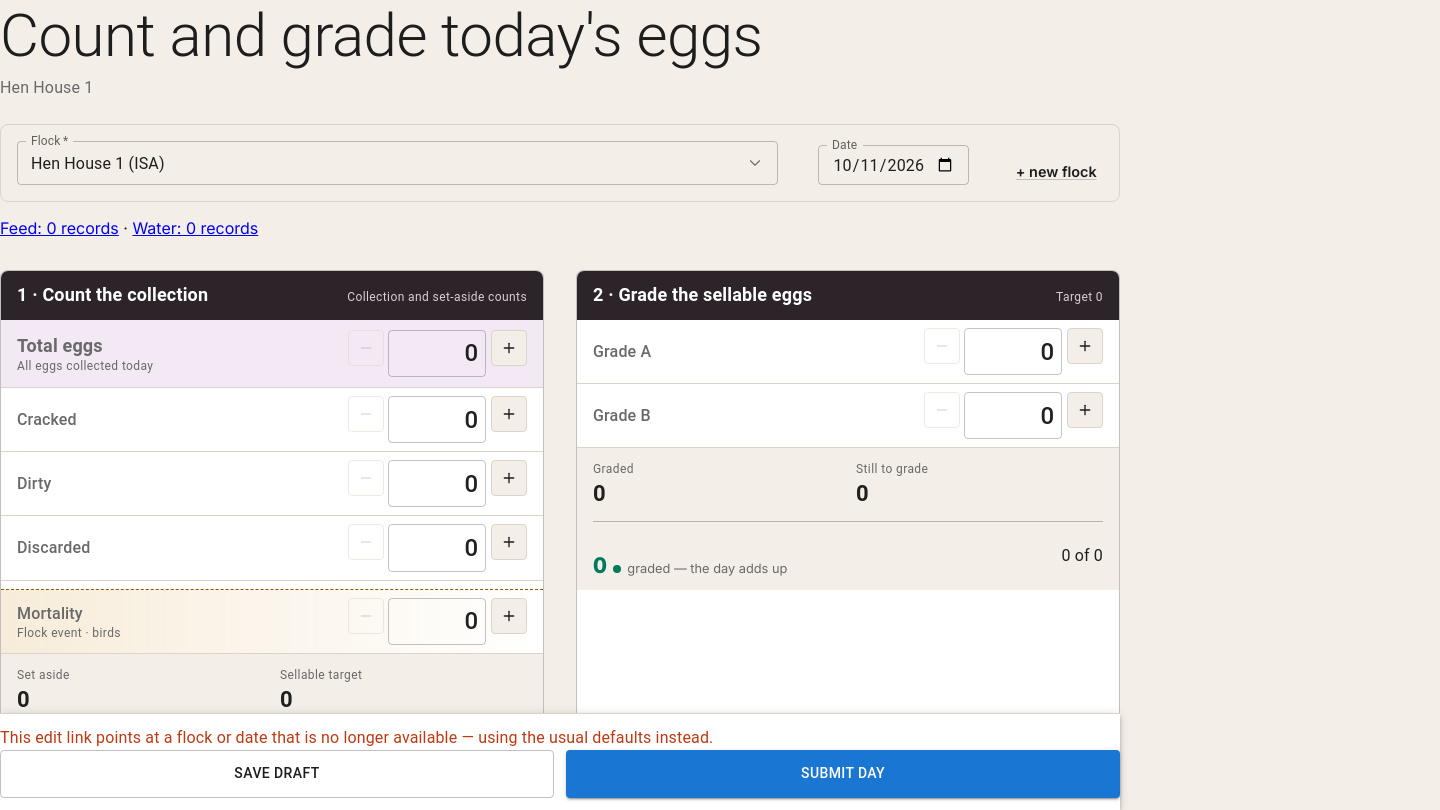
Test case: DailyEntryPage error placement (#479) › keeps a page failure while the new-flock dialog opens and its own create fails
Expected: the number field labelled "Grade A" is shown, [964,328,1062,375]
Expected: the button "Save draft" is enabled, [0,750,554,798]
Click the button "+ new flock" at (1056, 172), box [1009,158,1103,185]
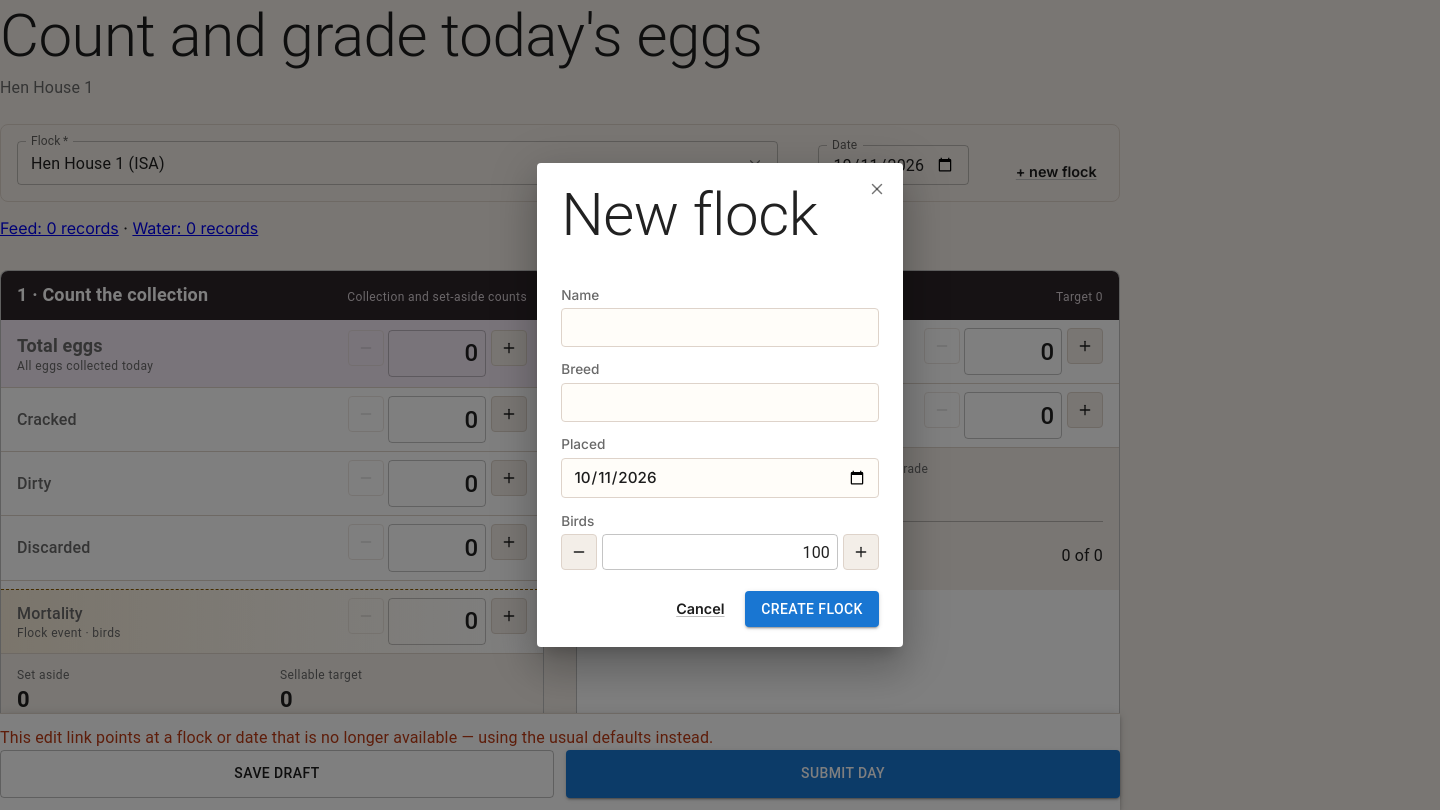
Expected: the text "This edit link points at a flock or date that is no longer available — using the usual defaults instead." is shown, [0,728,713,747]
Type "Dupe" into the field labelled "Name" at (720, 328), box [561,308,879,347]
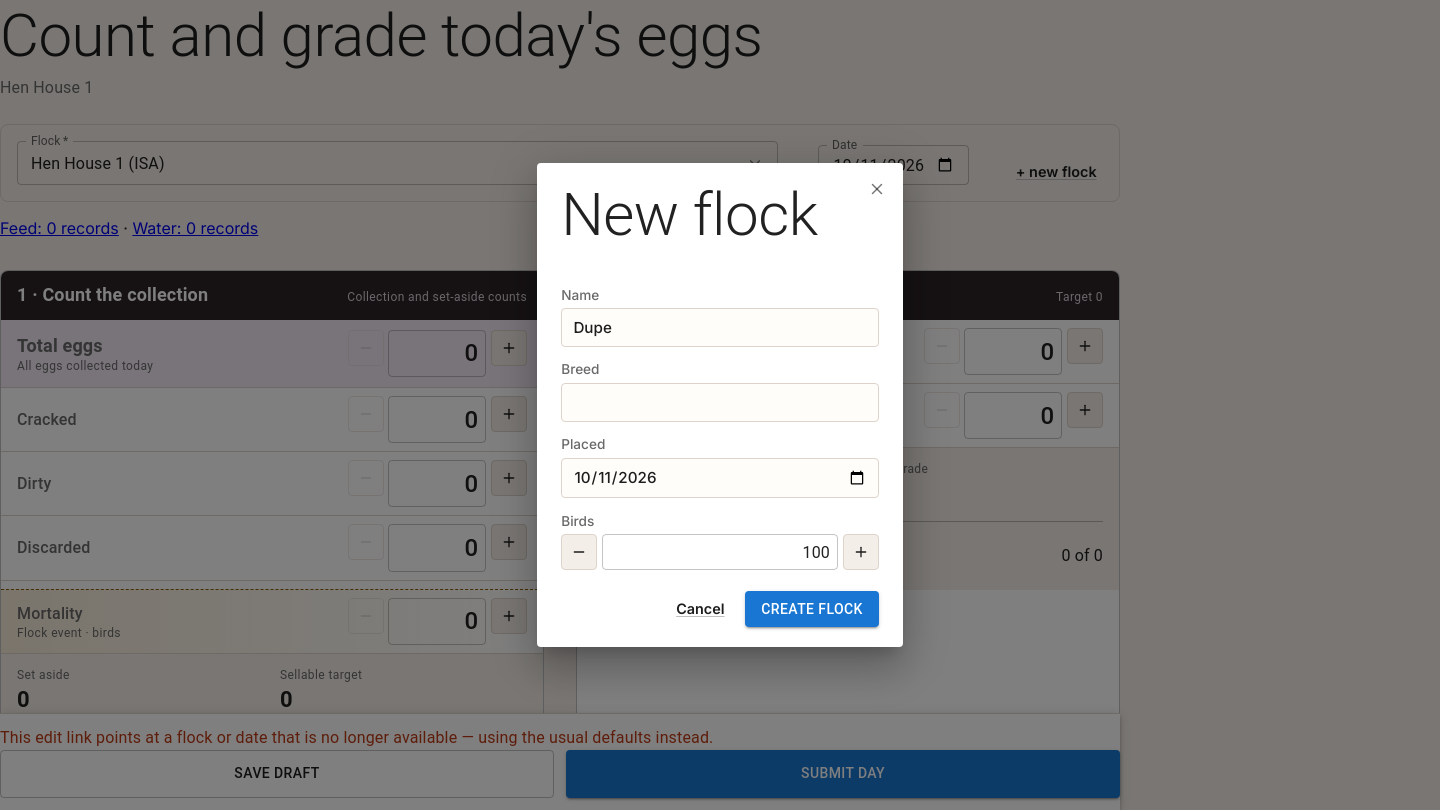
Type "ISA" into the field labelled "Breed" at (720, 402), box [561,383,879,422]
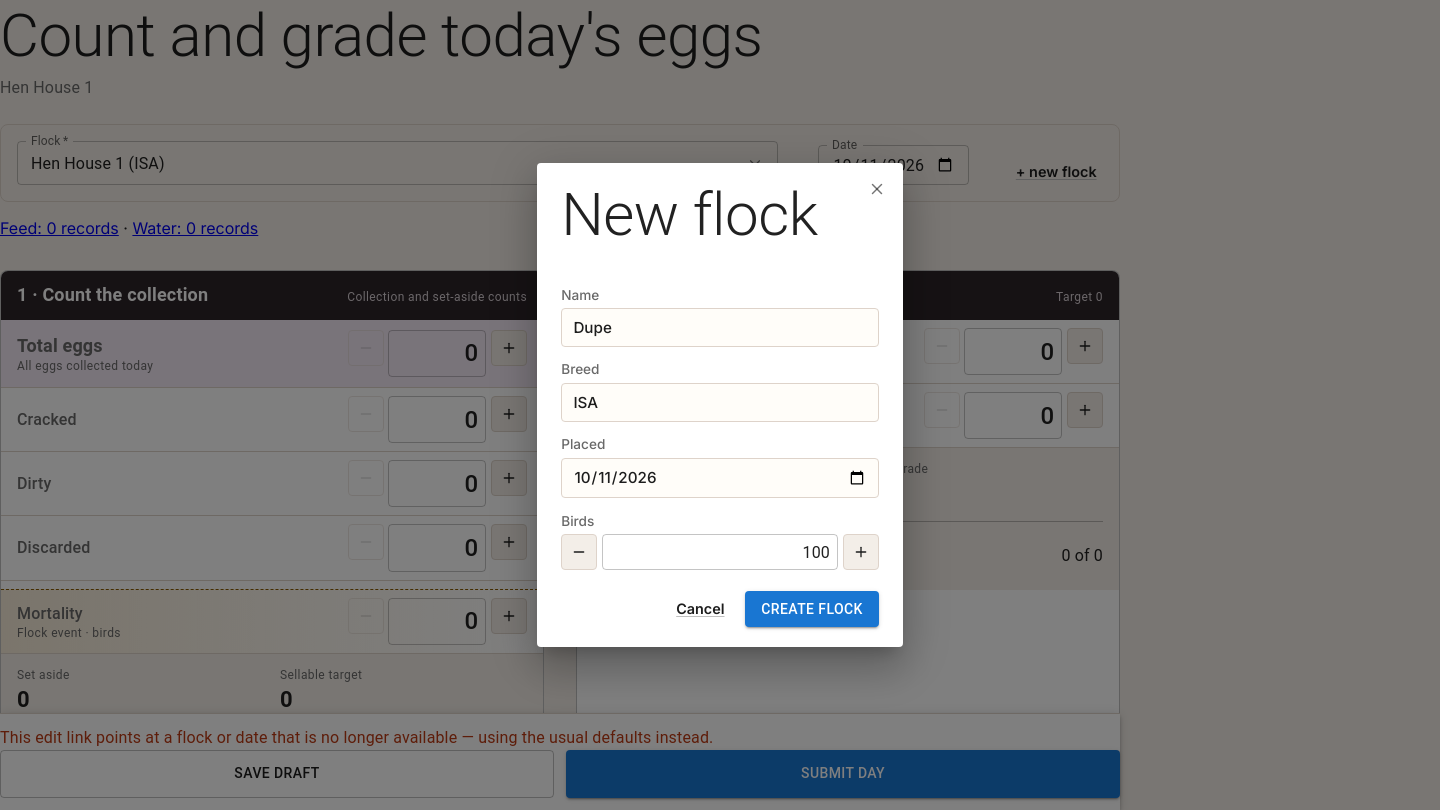
Click the button "Create flock" at (812, 609), box [745,591,879,627]
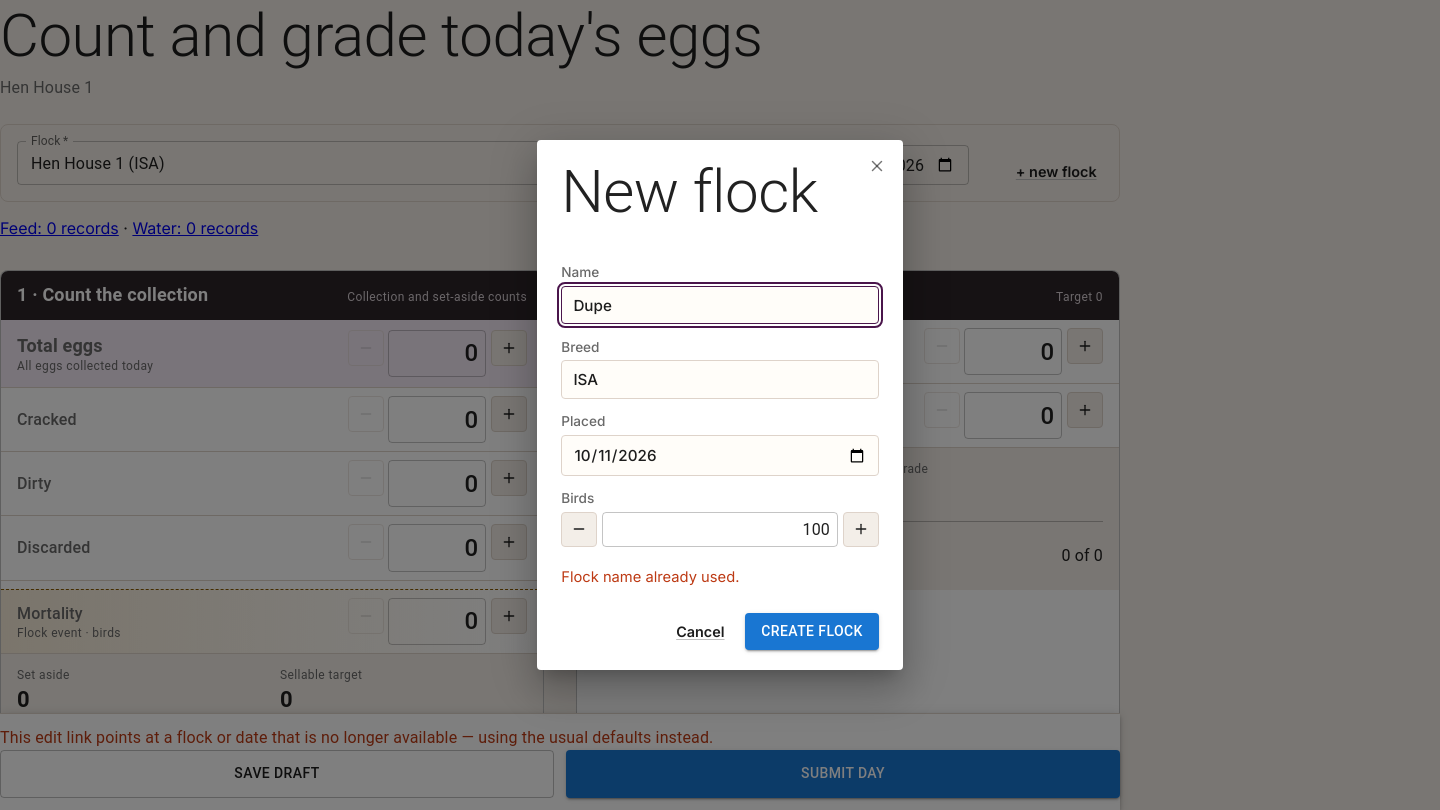
Expected: the text "This edit link points at a flock or date that is no longer available — using the usual defaults instead." is shown, [0,728,713,747]
Expected: the text "Flock name already used." is shown, [561,568,739,586]
